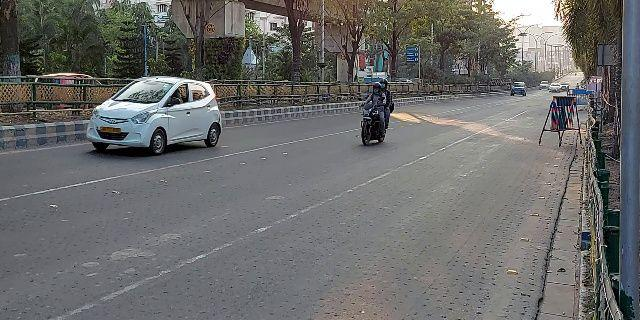Car: (86, 75, 225, 157)
Motorbike: (355, 76, 393, 149)
